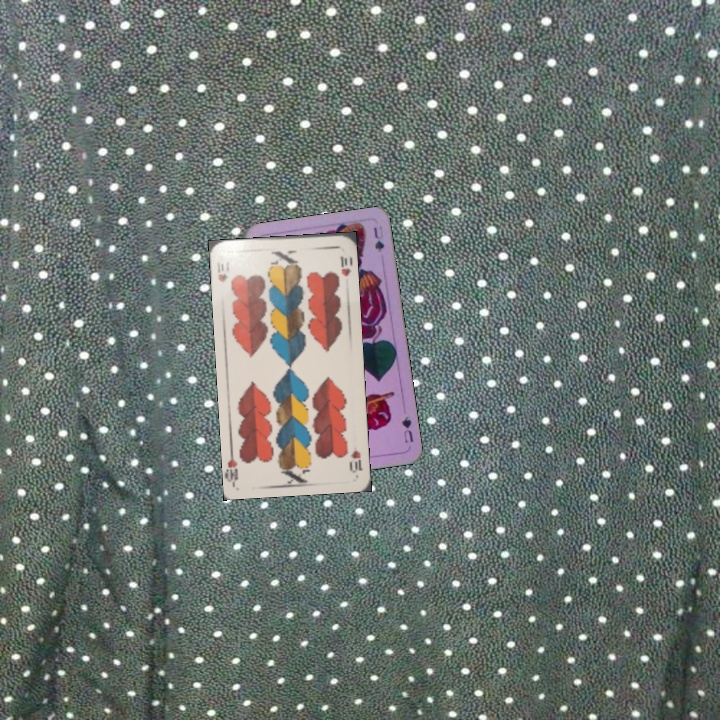GU: (397, 412, 416, 445)
H10: (345, 446, 366, 475), (213, 257, 232, 285)
